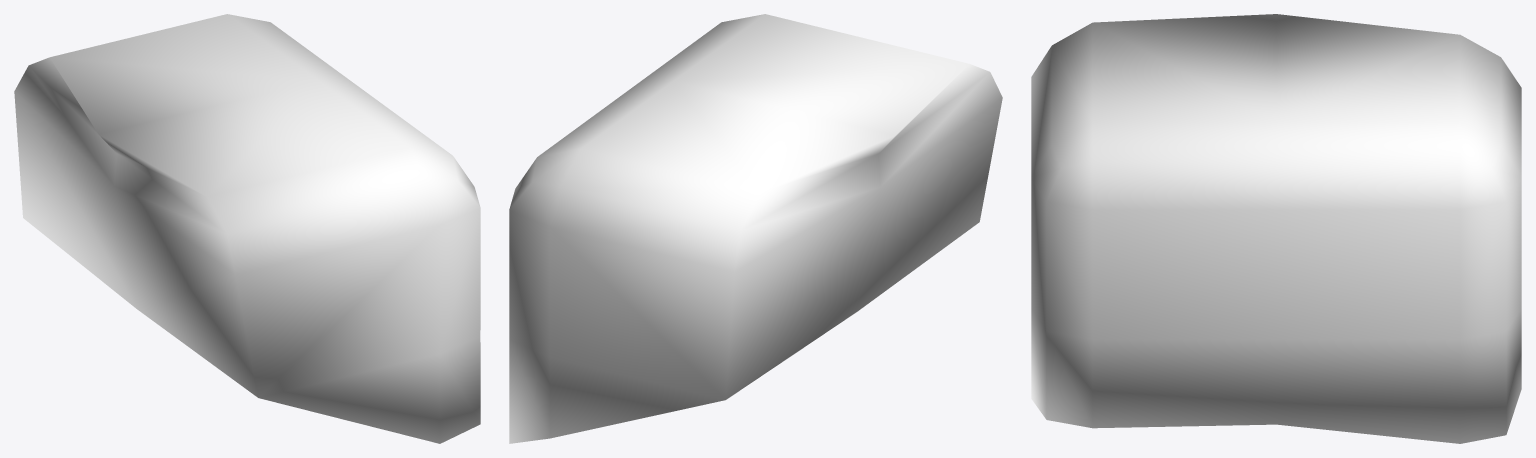
Rendered from WhiteBrickBreak3.obj.
The picture shows the model from 3 angles, left to right: view 1: azimuth 30°, elevation 25°; view 2: azimuth 150°, elevation 25°; view 3: azimuth 270°, elevation 25°; orthographic projection.
Visible parts, largest first — view 1: OriginalBrick.005_Cube.009; view 2: OriginalBrick.005_Cube.009; view 3: OriginalBrick.005_Cube.009.
Part boxes in pixels (x1,y1,x2,y2): OriginalBrick.005_Cube.009: (14, 14, 480, 443); OriginalBrick.005_Cube.009: (509, 14, 1002, 443); OriginalBrick.005_Cube.009: (1031, 14, 1521, 443).
Size of the model in its own units: 0.2918 by 0.2814 by 0.4316.
2 materials, 2 textured.
